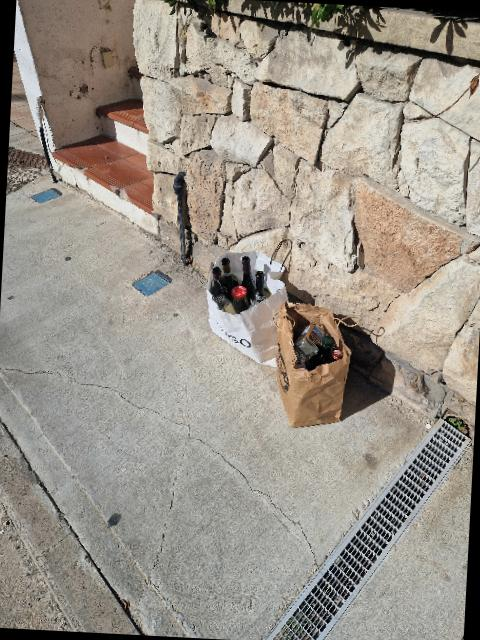Other: (275, 302, 351, 428), (206, 251, 288, 367)
